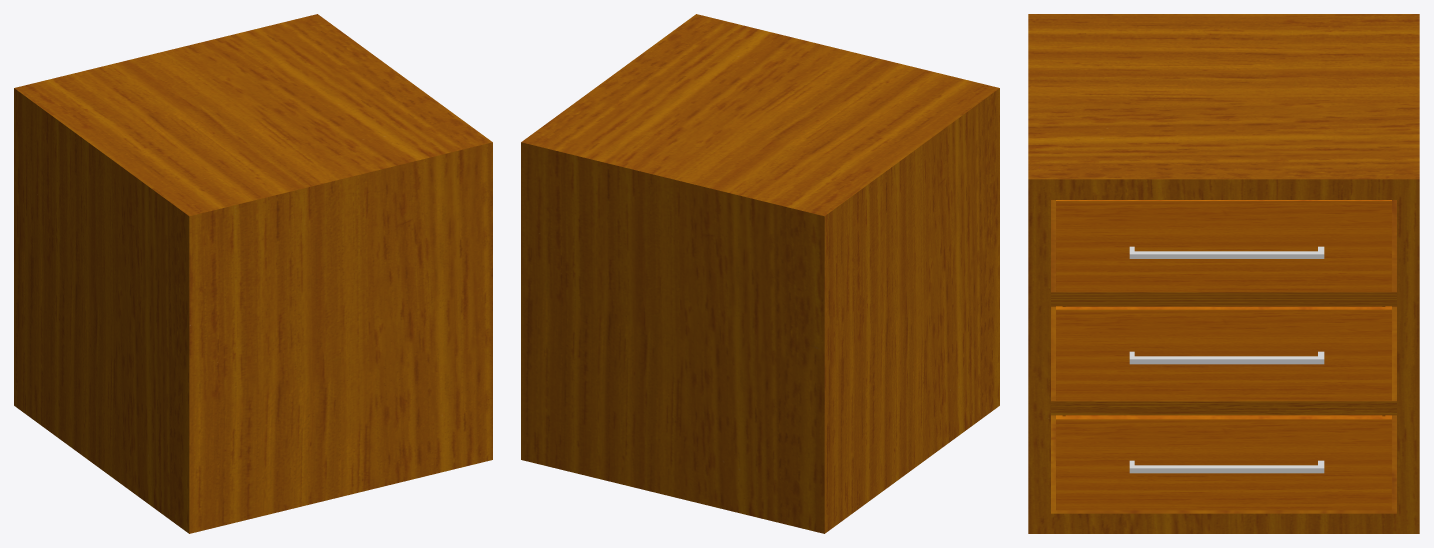
Rendered from little desk base.fbx.
The picture shows the model from 3 angles, left to right: view 1: azimuth 30°, elevation 25°; view 2: azimuth 150°, elevation 25°; view 3: azimuth 270°, elevation 25°; orthographic projection. The views are drawn at different scales.
Visible parts, largest first — view 1: shilder; view 2: shilder; view 3: shilder, cabinet1, cabinet2, cabinet3, handle1, handle2, handle3.
Part boxes in pixels (x1,y1,x2,y2): shilder: (14,14,492,533); shilder: (521,14,999,533); shilder: (1028,14,1419,533); cabinet1: (1056,415,1391,510); cabinet2: (1056,306,1391,400); cabinet3: (1056,200,1391,291); handle1: (1129,460,1324,473); handle2: (1129,351,1324,364); handle3: (1129,246,1324,258).
Size of the model in its own units: 210 by 200 by 200.
3 materials, 3 textured.
